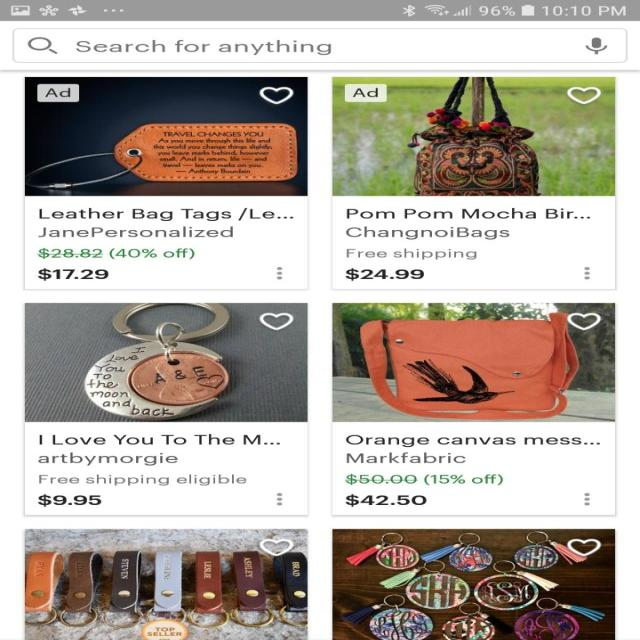EditText: (12, 28, 626, 63)
Icon: (565, 86, 601, 105), (258, 538, 294, 556), (258, 86, 292, 104), (566, 312, 600, 330), (566, 538, 601, 555), (260, 313, 294, 330), (28, 37, 58, 54), (584, 37, 607, 55), (274, 266, 282, 280), (582, 492, 590, 506), (582, 267, 590, 280), (276, 492, 282, 506)
Image: (332, 76, 616, 196), (332, 302, 614, 422), (24, 77, 308, 196), (25, 303, 308, 422), (25, 528, 308, 640), (332, 528, 614, 640)
Text: (76, 40, 332, 55), (39, 208, 294, 222), (345, 434, 599, 447), (346, 207, 590, 219), (38, 434, 280, 445), (37, 225, 234, 238), (38, 474, 246, 486), (344, 226, 510, 240), (38, 452, 179, 466), (344, 473, 503, 485), (37, 248, 195, 260), (344, 248, 476, 260), (346, 452, 465, 462), (344, 493, 426, 507), (344, 267, 424, 281), (38, 267, 108, 281), (38, 493, 102, 506)
TextButton: (36, 84, 80, 102), (344, 84, 387, 102)
